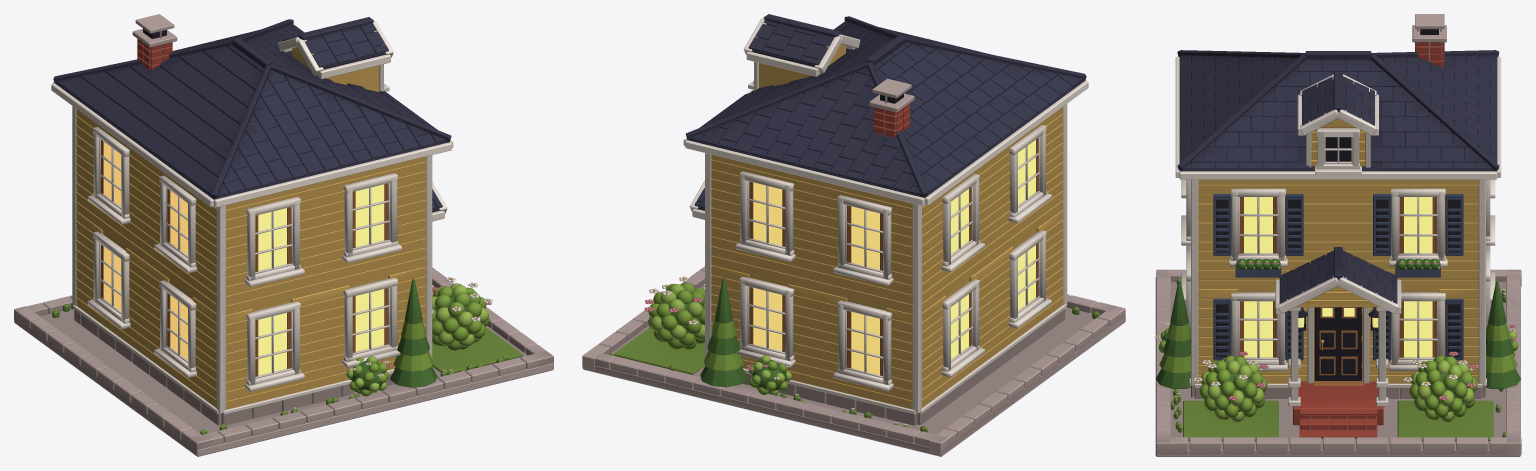
The model's file is bld.house-d.glb.
The picture shows the model from 3 angles, left to right: view 1: azimuth 30°, elevation 25°; view 2: azimuth 150°, elevation 25°; view 3: azimuth 270°, elevation 25°; orthographic projection.
Visible parts, largest first — view 1: object 5, body, roof; view 2: object 5, body, roof; view 3: object 5, roof, body, door_front.
Part boxes in pixels (x1,y1,x2,y2): object 5: (14, 127, 553, 456); body: (72, 106, 434, 425); roof: (51, 14, 453, 221); object 5: (582, 125, 1125, 456); body: (703, 104, 1067, 425); roof: (683, 14, 1088, 219); object 5: (1154, 179, 1521, 456); roof: (1175, 14, 1501, 313); body: (1189, 179, 1486, 438); door_front: (1314, 307, 1362, 380).
Bounding box in the file's own units: 9 × 7.5 × 8.04.
